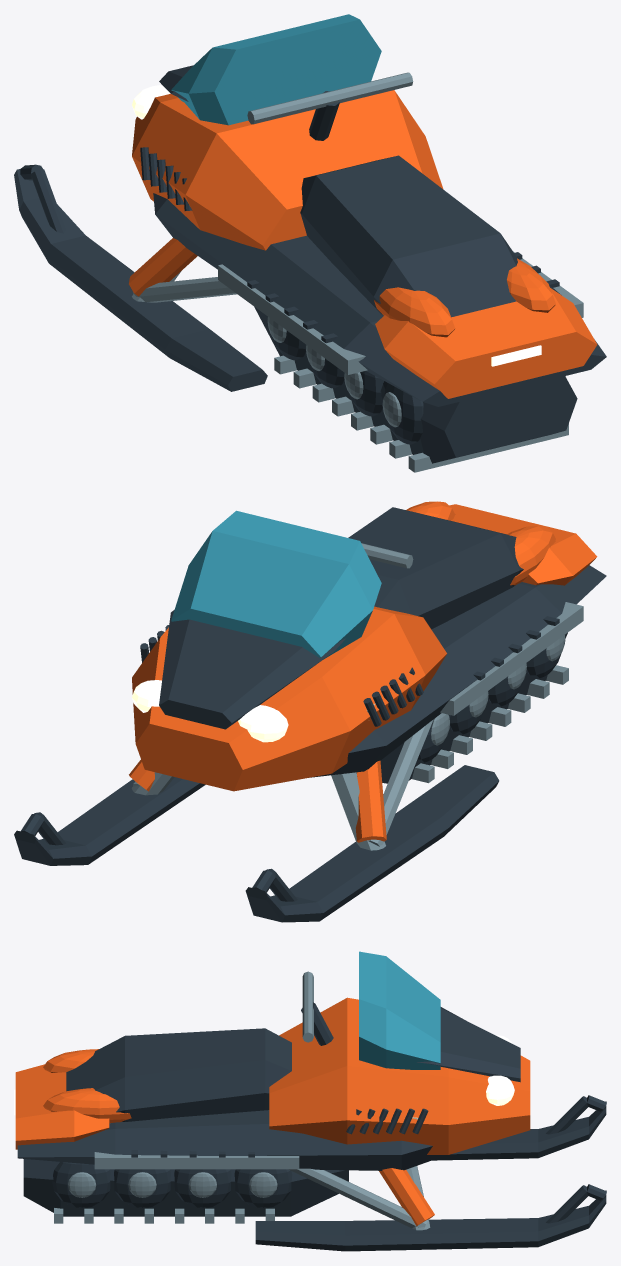
File: player-sled.glb
3 renders of one model, top to bottom at view 1: azimuth 30°, elevation 25°; view 2: azimuth 150°, elevation 25°; view 3: azimuth 270°, elevation 25°, orthographic. The views are drawn at different scales.
Parts seen in each view (by area): view 1: Player sled; view 2: Player sled; view 3: Player sled.
Part boxes in pixels (x1,y1,x2,y2): Player sled: (14, 14, 606, 472); Player sled: (14, 501, 606, 922); Player sled: (14, 951, 606, 1251).
Size of the model in its own units: 1.32 by 1.26 by 3.04.
